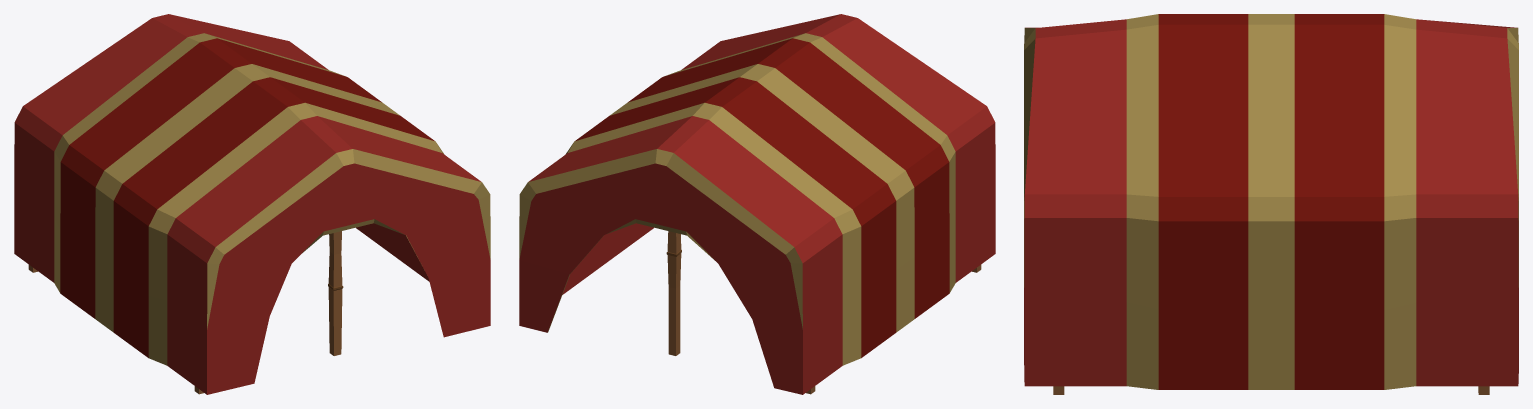
File: Tent.fbx
3 views of the same model, side by side, from view 1: azimuth 30°, elevation 25°; view 2: azimuth 150°, elevation 25°; view 3: azimuth 270°, elevation 25° (orthographic). The views are drawn at different scales.
Visible parts, largest first — view 1: Cube.015; view 2: Cube.015; view 3: Cube.015.
Boxes of the visible parts, x1,y1,x2,y2 form: Cube.015: [14, 14, 490, 394]; Cube.015: [519, 14, 995, 394]; Cube.015: [1024, 14, 1518, 394].
Bounding box in the file's own units: 855 × 551 × 756.
